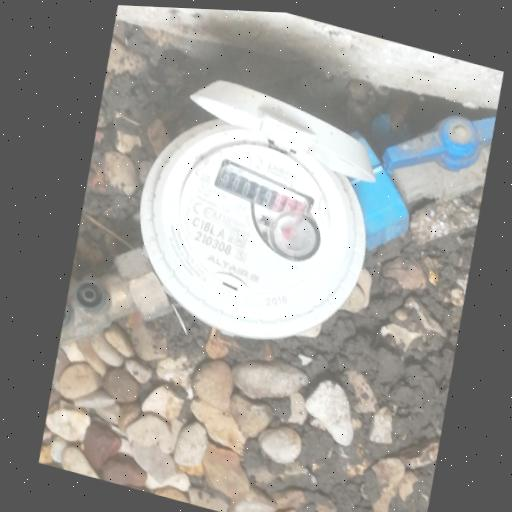0: (215, 166, 236, 193), (236, 176, 257, 202), (226, 171, 246, 197)
1: (247, 180, 268, 206)
3: (291, 199, 308, 217)
6: (278, 194, 298, 218)
9: (256, 185, 279, 211), (269, 190, 288, 215)
border_water_meter_number: (207, 155, 320, 230)
